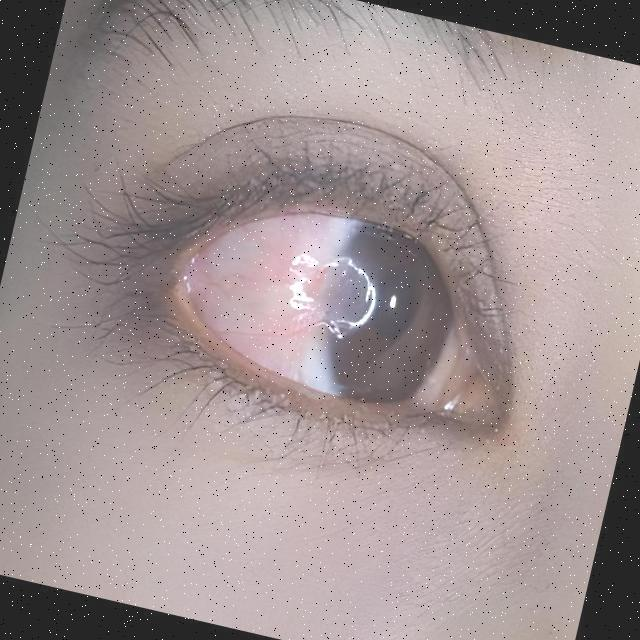Pterygium: (180, 222, 386, 362)
